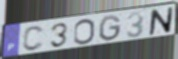3: (126, 11, 145, 39), (50, 22, 69, 48)
C: (22, 25, 46, 52)
G: (98, 14, 123, 42)
N: (147, 6, 175, 37)
O: (73, 18, 96, 46)
